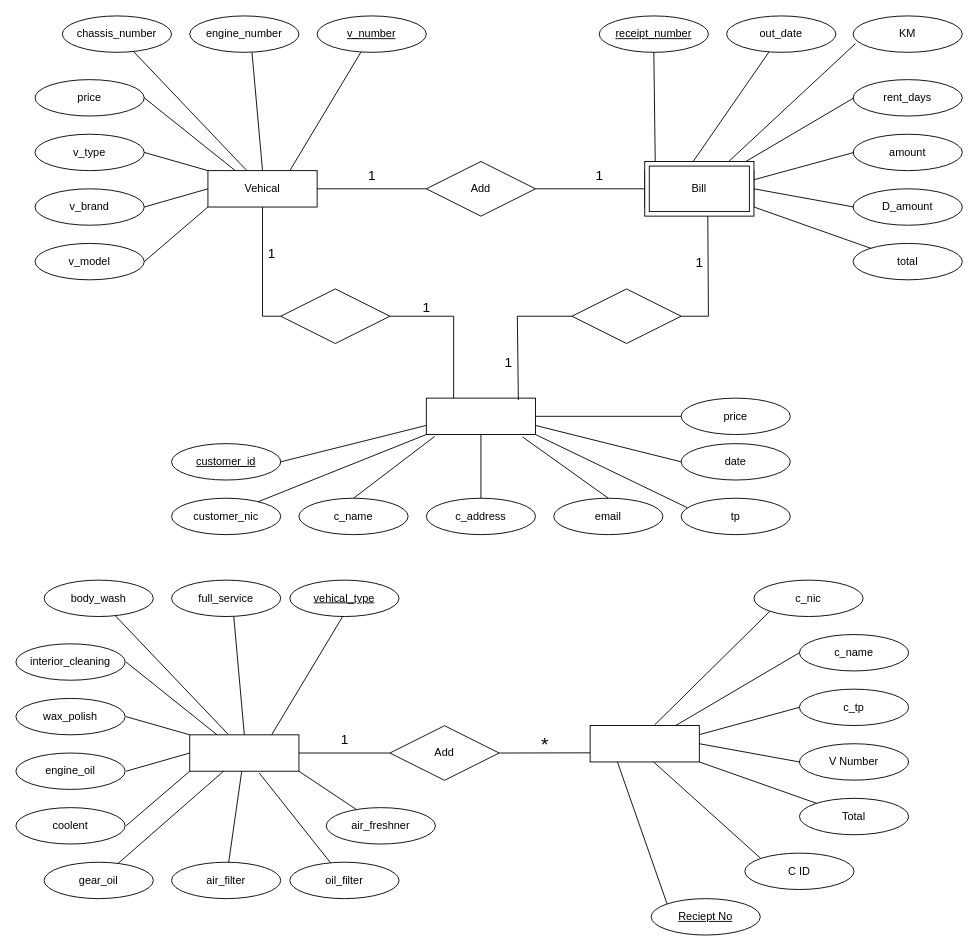
Some shapes in this 978 by 951 pixel diagram are drawn without their labels. Here are the shapes that lost their labels. From the top down, the centre of each, then its label:
At point (335, 316): "Rent".
At point (626, 316): "Get".
At point (480, 416): "Customer".
At point (244, 752): "Vehicle Service".
At point (644, 743): "Service Bill".
